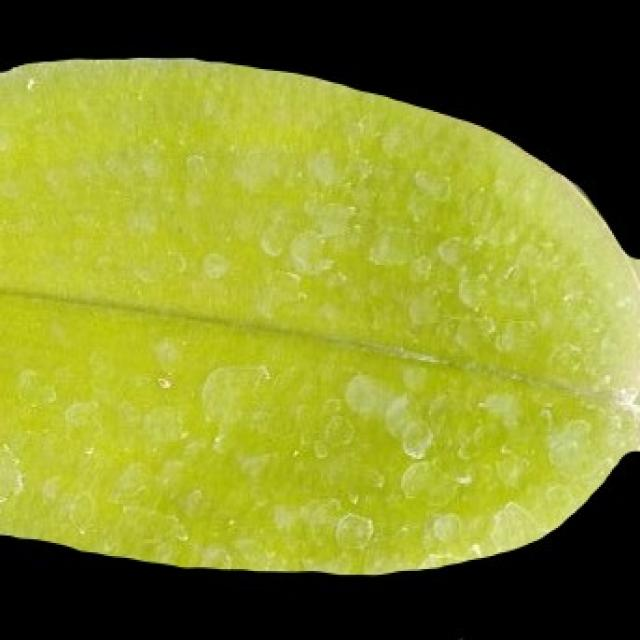mite: (284, 226, 334, 276), (330, 509, 375, 552), (409, 166, 452, 202), (427, 509, 463, 545), (433, 233, 466, 269), (198, 248, 231, 282), (0, 121, 9, 157)
spots: (0, 54, 638, 575)
